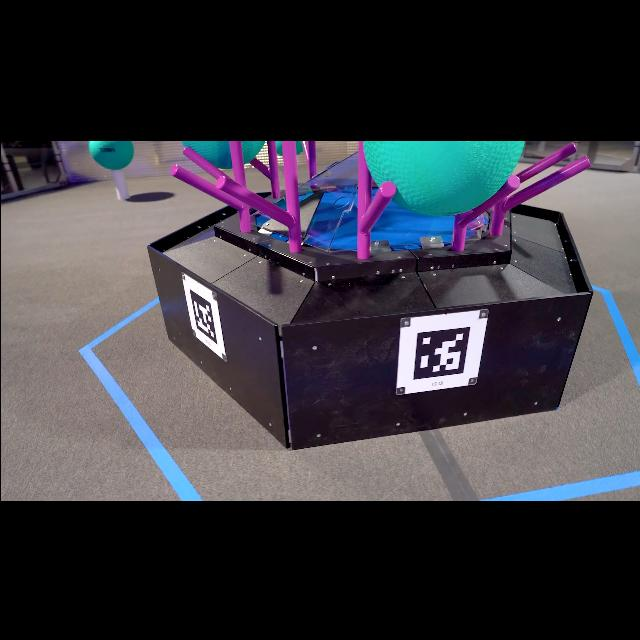ALGAE: (362, 140, 524, 216), (180, 140, 264, 168), (87, 140, 133, 168), (273, 140, 303, 156)
CORAL: (110, 168, 128, 198)
